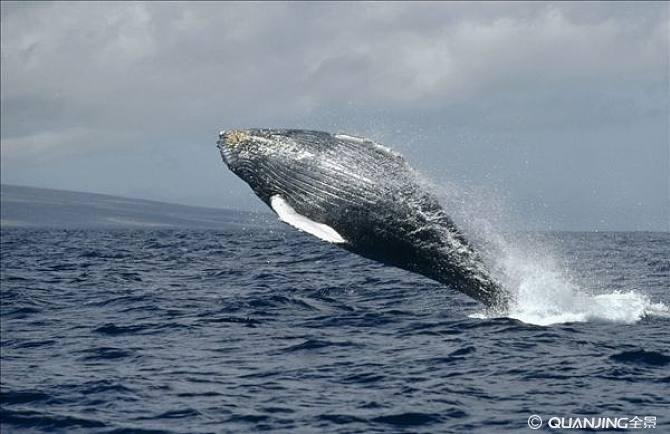fish: (212, 109, 529, 319)
